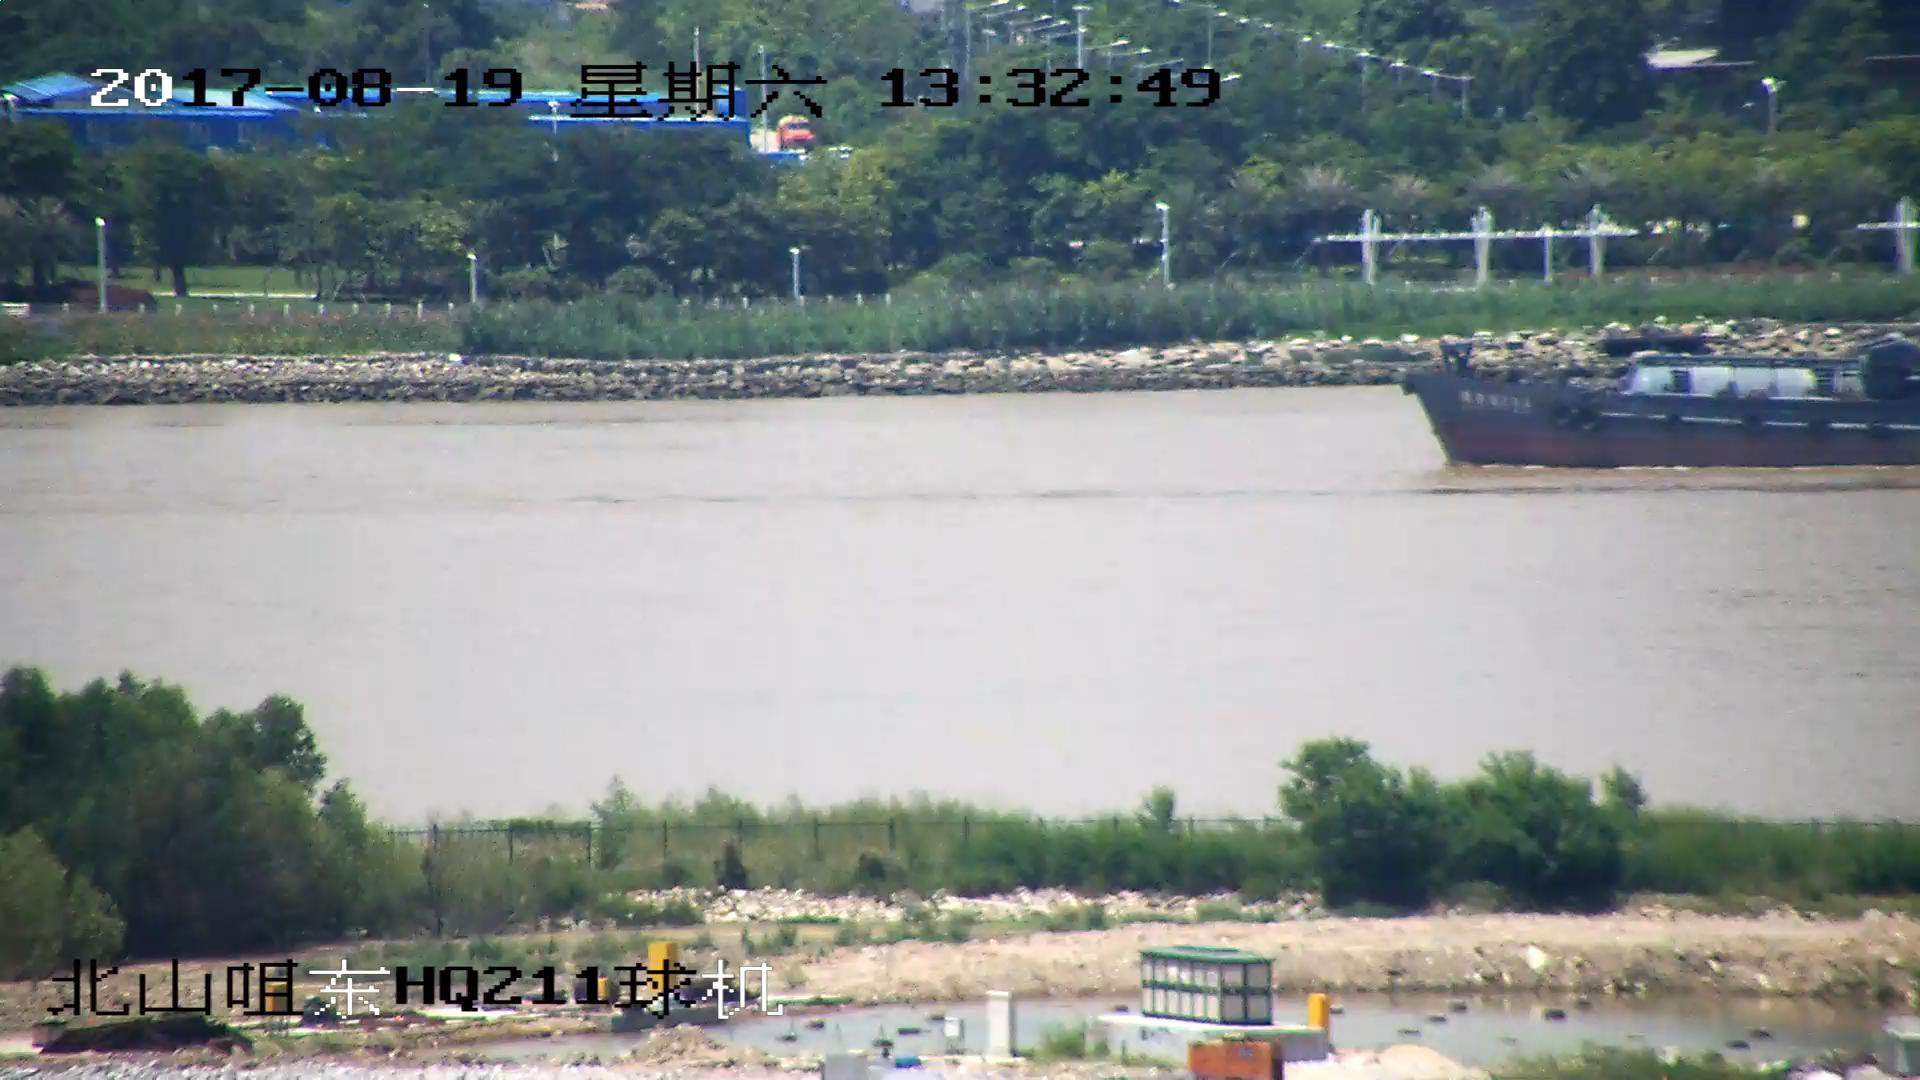bulk cargo carrier: (1396, 345, 1920, 471)
